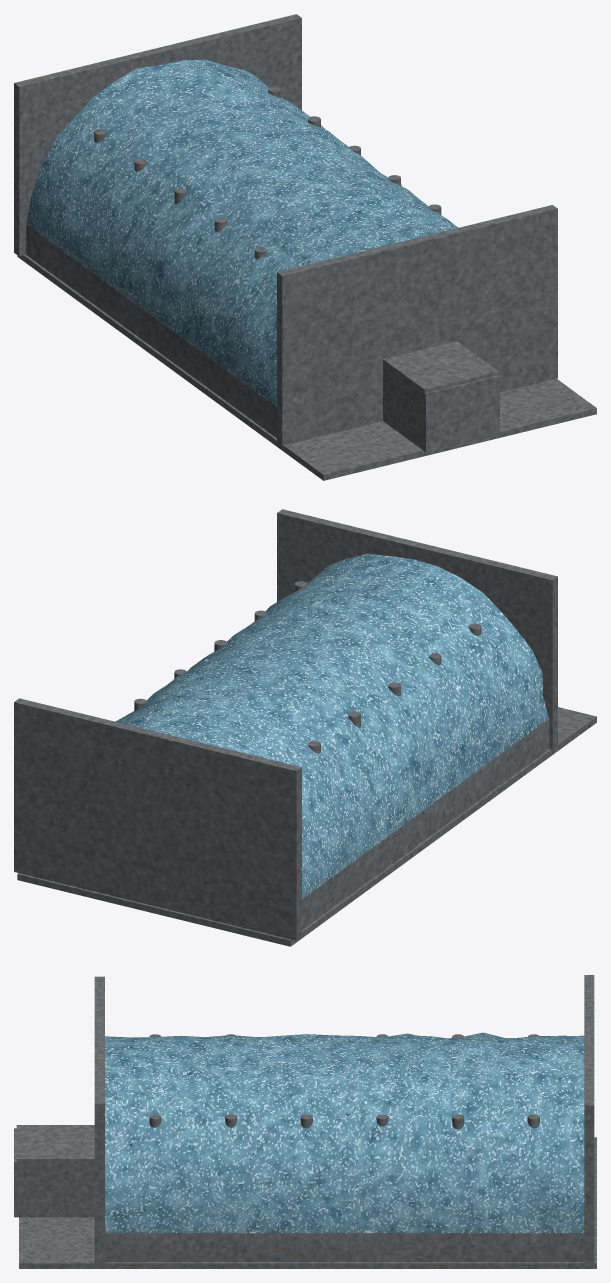
File: helikon_hall.glb
The picture shows the model from 3 angles, top to bottom: view 1: azimuth 30°, elevation 25°; view 2: azimuth 150°, elevation 25°; view 3: azimuth 270°, elevation 25°; orthographic projection. The views are drawn at different scales.
Parts seen in each view (by area): view 1: hall_interior; view 2: hall_interior; view 3: hall_interior.
Part boxes in pixels (<box>): hall_interior: <box>14,14,596,480</box>; hall_interior: <box>14,509,596,946</box>; hall_interior: <box>14,975,596,1268</box>.
Size of the model in its own units: 24.4 by 16.02 by 46.2.
Materials: 4 (3 with a texture image).
